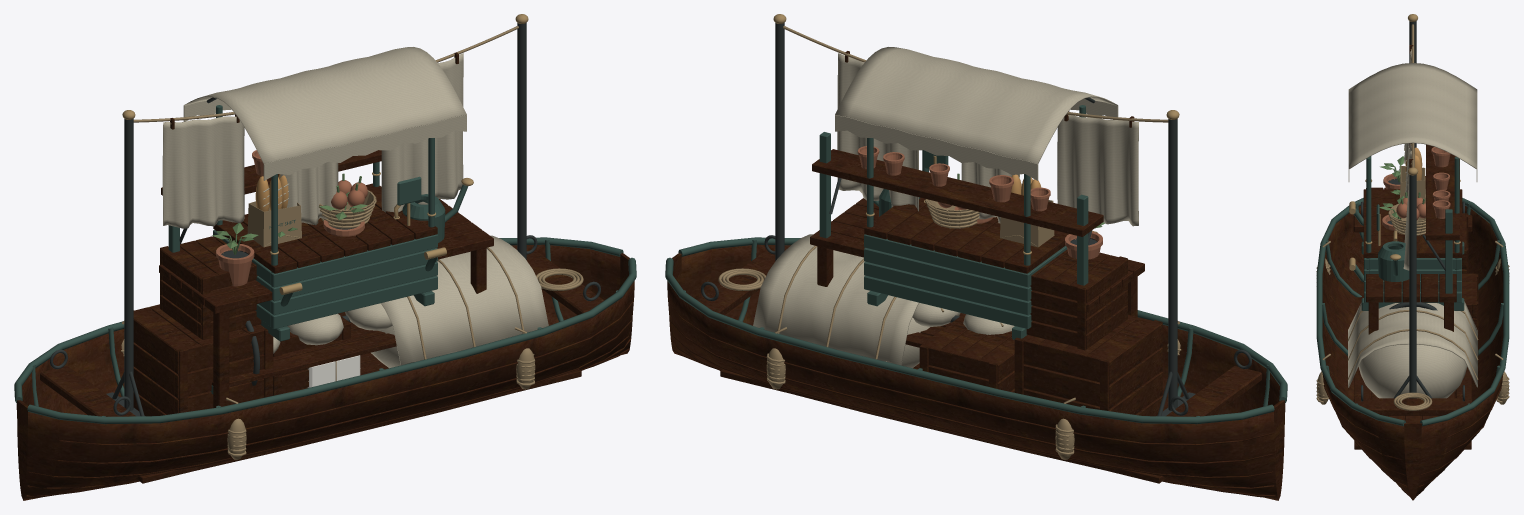
Rendered from life-props-v1.glb.
The picture shows the model from 3 angles, left to right: view 1: azimuth 30°, elevation 25°; view 2: azimuth 150°, elevation 25°; view 3: azimuth 270°, elevation 25°; orthographic projection. The views are drawn at different scales.
Visible parts, largest first — view 1: Life_Barge_Life weathered walnut, Life_Handcart_Life warm grey linen, Life_Handcart_Life worn deep green paint, Life_Barge_Life warm grey linen, Life_PottingBench_Life weathered walnut, Wash_Cloth_1, Life_Barge_Life worn deep green paint, Life_Handcart_Life weathered walnut, Life_WashingLine_Life blackened iron, Wash_Cloth_3, Life_Barge_Life hemp and basket willow, Life_Handcart_Life hemp and basket willow (+8 smaller); view 2: Life_Barge_Life weathered walnut, Life_Handcart_Life warm grey linen, Life_Barge_Life warm grey linen, Life_Handcart_Life worn deep green paint, Life_PottingBench_Life weathered walnut, Life_Barge_Life worn deep green paint, Wash_Cloth_1, Life_Handcart_Life weathered walnut, Life_WashingLine_Life blackened iron, Life_Barge_Life hemp and basket willow, Wash_Cloth_3, Life_PottingBench_Life weathered terracotta (+5 smaller); view 3: Life_Barge_Life weathered walnut, Life_Handcart_Life warm grey linen, Life_Barge_Life warm grey linen, Life_Barge_Life worn deep green paint, Life_PottingBench_Life weathered walnut, Life_Handcart_Life worn deep green paint, Life_Handcart_Life weathered walnut, Life_WashingLine_Life blackened iron, Life_Barge_Life hemp and basket willow, Life_PottingBench_Life worn deep green paint, Life_PottingBench_Life weathered terracotta, Life_Handcart_Life hemp and basket willow (+6 smaller).
Part boxes in pixels (box(x1,y1,x2,y2)): Life_Barge_Life weathered walnut: box(16, 236, 634, 500); Life_Handcart_Life warm grey linen: box(183, 47, 466, 206); Life_Handcart_Life worn deep green paint: box(213, 105, 437, 341); Life_Barge_Life warm grey linen: box(371, 235, 548, 368); Life_PottingBench_Life weathered walnut: box(159, 150, 493, 407); Wash_Cloth_1: box(162, 116, 244, 228); Life_Barge_Life worn deep green paint: box(14, 237, 636, 424); Life_Handcart_Life weathered walnut: box(213, 183, 437, 273); Life_WashingLine_Life blackened iron: box(106, 23, 526, 416); Wash_Cloth_3: box(381, 53, 463, 212); Life_Barge_Life hemp and basket willow: box(121, 247, 583, 459); Life_Handcart_Life hemp and basket willow: box(247, 190, 376, 247); Life_Barge_Life weathered walnut: box(667, 244, 1285, 500); Life_Handcart_Life warm grey linen: box(835, 47, 1118, 184); Life_Barge_Life warm grey linen: box(753, 234, 929, 368); Life_Handcart_Life worn deep green paint: box(864, 105, 1085, 339); Life_PottingBench_Life weathered walnut: box(810, 149, 1144, 347); Life_Barge_Life worn deep green paint: box(665, 237, 1287, 424); Wash_Cloth_1: box(1057, 115, 1138, 226); Life_Handcart_Life weathered walnut: box(864, 197, 1068, 273); Life_WashingLine_Life blackened iron: box(775, 23, 1195, 416); Life_Barge_Life hemp and basket willow: box(718, 245, 1181, 459); Wash_Cloth_3: box(837, 53, 918, 211); Life_PottingBench_Life weathered terracotta: box(857, 146, 1102, 259); Life_Barge_Life weathered walnut: box(1322, 176, 1503, 500); Life_Handcart_Life warm grey linen: box(1348, 63, 1477, 181); Life_Barge_Life warm grey linen: box(1348, 301, 1477, 398); Life_Barge_Life worn deep green paint: box(1316, 198, 1509, 426); Life_PottingBench_Life weathered walnut: box(1366, 144, 1459, 334); Life_Handcart_Life worn deep green paint: box(1353, 156, 1464, 310); Life_Handcart_Life weathered walnut: box(1363, 189, 1462, 257); Life_WashingLine_Life blackened iron: box(1394, 21, 1431, 398); Life_Barge_Life hemp and basket willow: box(1316, 241, 1509, 410); Life_PottingBench_Life worn deep green paint: box(1378, 209, 1452, 293); Life_PottingBench_Life weathered terracotta: box(1382, 147, 1450, 230); Life_Handcart_Life hemp and basket willow: box(1388, 166, 1425, 235).
Size of the model in its own units: 4.8 by 2.75 by 1.65.
10 materials, 2 textured.
